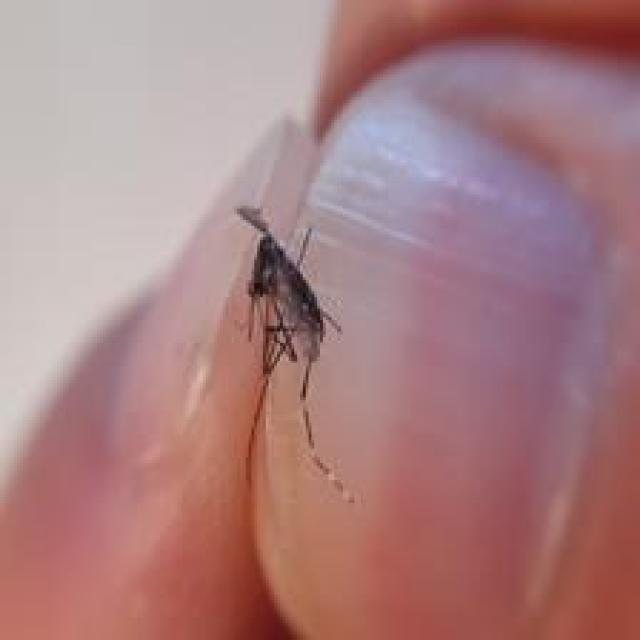Aedes albopictus: (233, 203, 358, 506)
